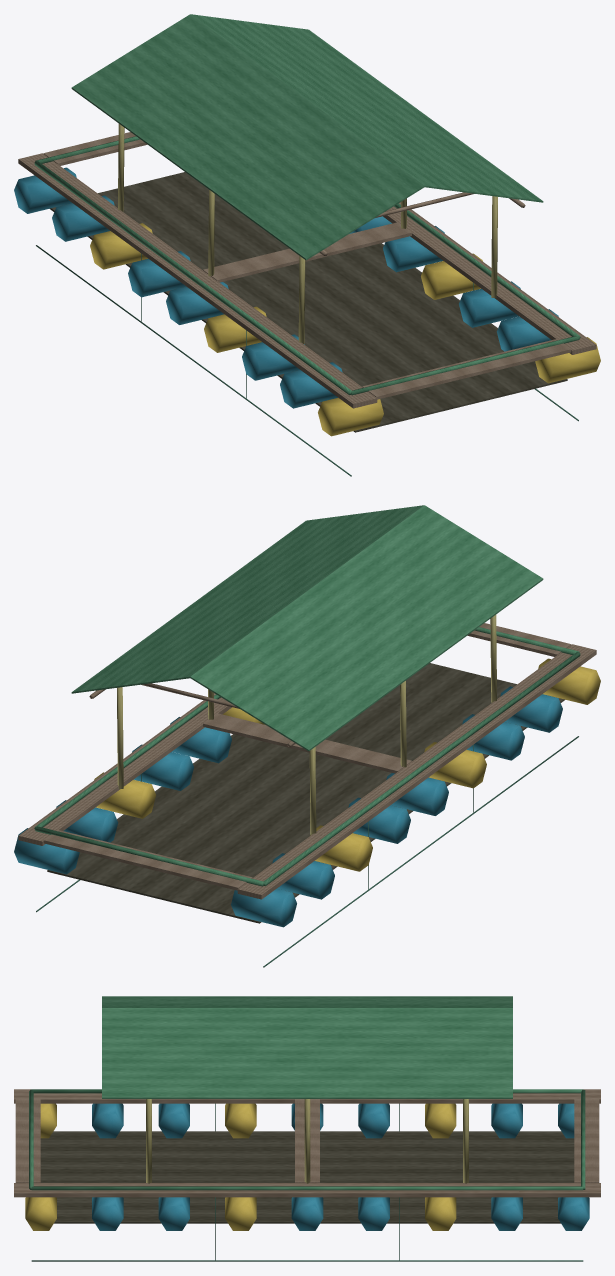
Rendered from bung-raft-3-green-mid.glb.
3 renders of one model, top to bottom at view 1: azimuth 30°, elevation 25°; view 2: azimuth 150°, elevation 25°; view 3: azimuth 270°, elevation 25°, orthographic. The views are drawn at different scales.
Parts seen in each view (by area): view 1: bung-raft-3-green-mid; view 2: bung-raft-3-green-mid; view 3: bung-raft-3-green-mid.
Boxes of the visible parts, x1=… form: bung-raft-3-green-mid: x1=14, y1=14, x2=600, y2=476; bung-raft-3-green-mid: x1=14, y1=505, x2=600, y2=967; bung-raft-3-green-mid: x1=14, y1=996, x2=600, y2=1261.
Bounding box in the file's own units: 4.94 × 4.17 × 10.8.
Materials: 1 (1 with a texture image).
